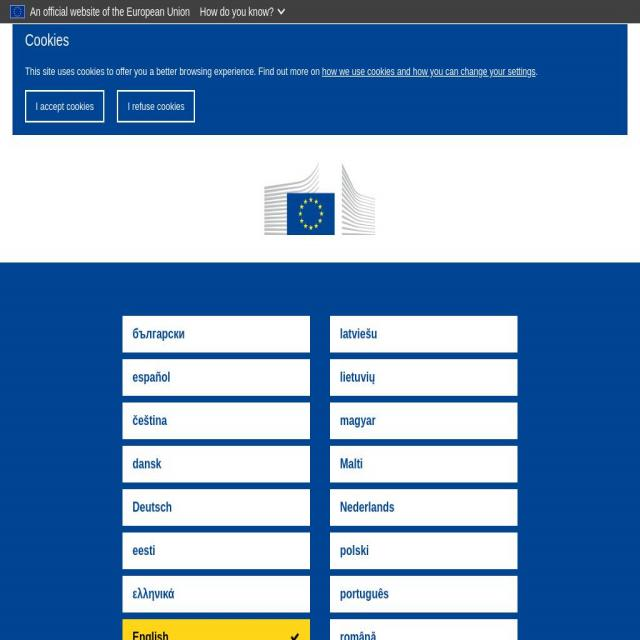language: (116, 298, 526, 640)
